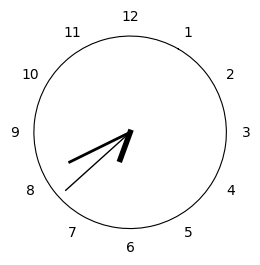12: (121, 8, 140, 23)
circle: (34, 36, 228, 229)
hours: (117, 129, 134, 163)
minutes: (68, 132, 129, 164)
seconds: (65, 137, 127, 191)
